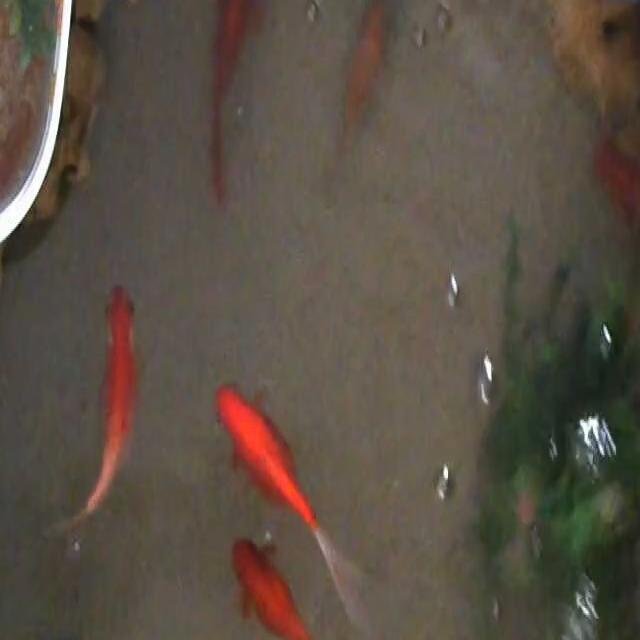fish: (209, 348, 384, 618), (46, 273, 140, 550), (229, 526, 324, 640), (207, 0, 260, 197), (337, 0, 388, 171), (591, 130, 640, 258)
